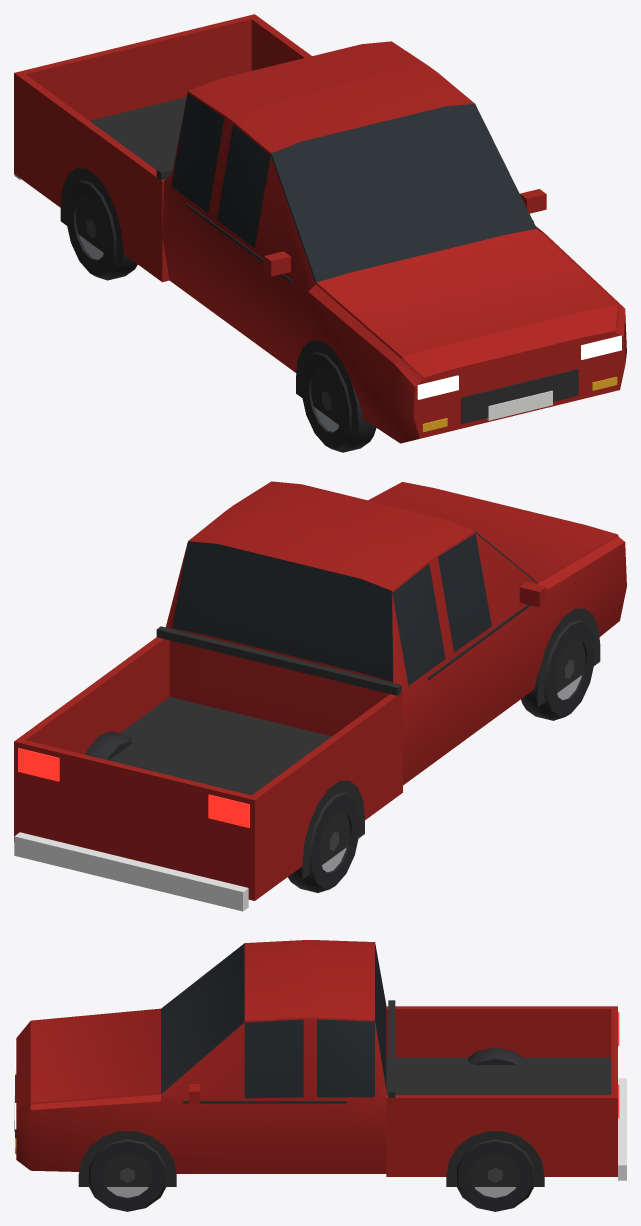
File: pickup_red.glb
3 views of the same model, one above another, from view 1: azimuth 30°, elevation 25°; view 2: azimuth 150°, elevation 25°; view 3: azimuth 270°, elevation 25° (orthographic). The views are drawn at different scales.
Parts seen in each view (by area): view 1: pickup; view 2: pickup; view 3: pickup.
Boxes of the visible parts, x1,y1,x2,y2 form: pickup: (14, 14, 626, 452); pickup: (14, 481, 626, 911); pickup: (14, 940, 626, 1211).
Bounding box in the file's own units: 0.1338 × 0.114 × 0.33.
